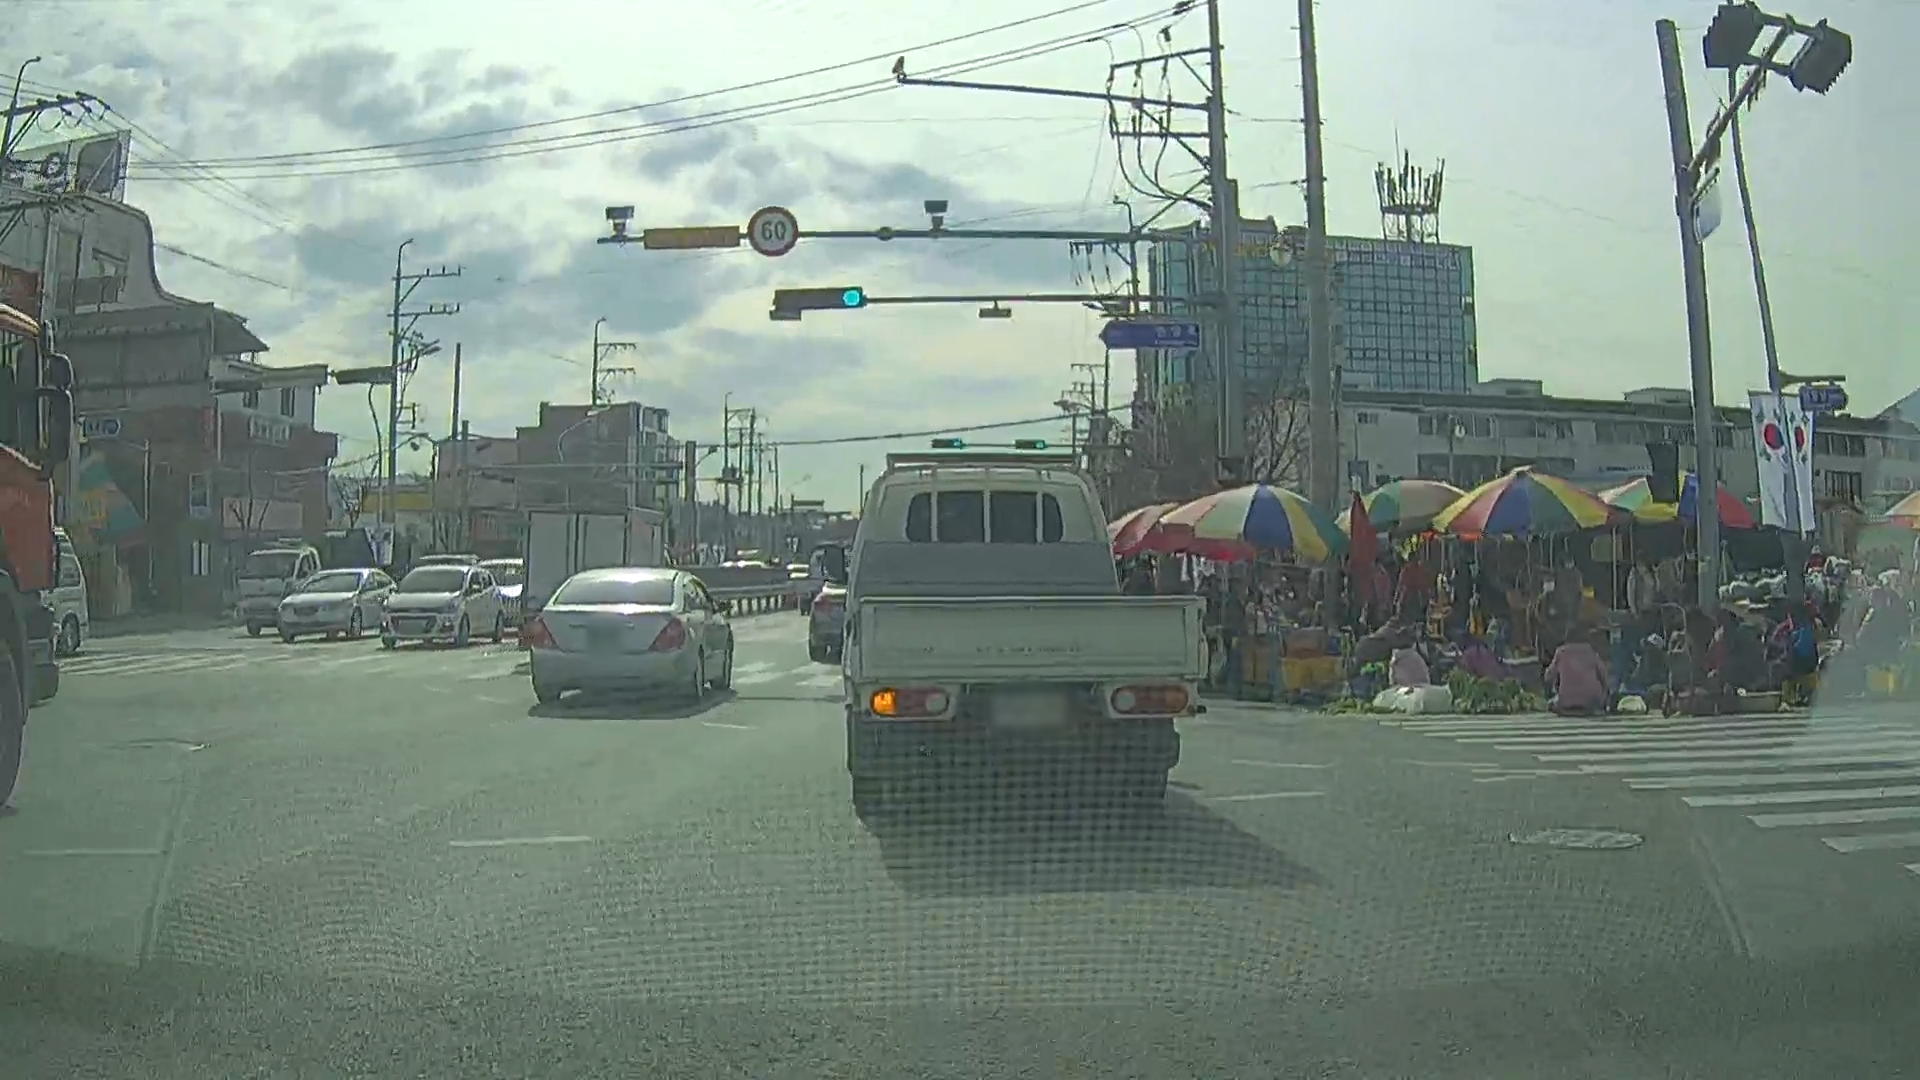trafficLight: (769, 285, 868, 315)
trafficSignCircle: (745, 206, 799, 261)
